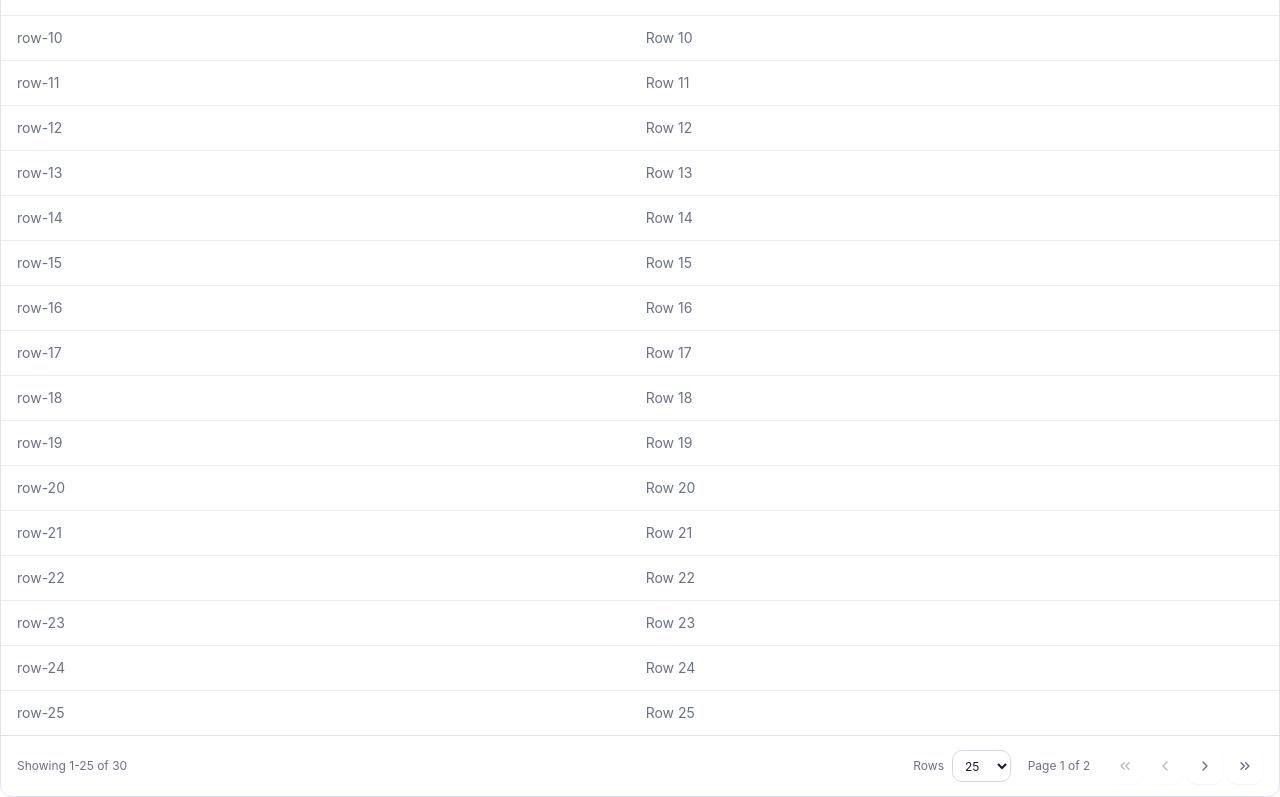
Test: DataTable › paginates rows instead of rendering the full data set
(page scrolled)
Expected: the text "Row 26" is not shown
Expected: the text "Showing 1-25 of 30" is shown, [17,758,127,774]
Click the button named "Next page" at x=1205, y=766, box [1187,748,1223,784]
(page scrolled)
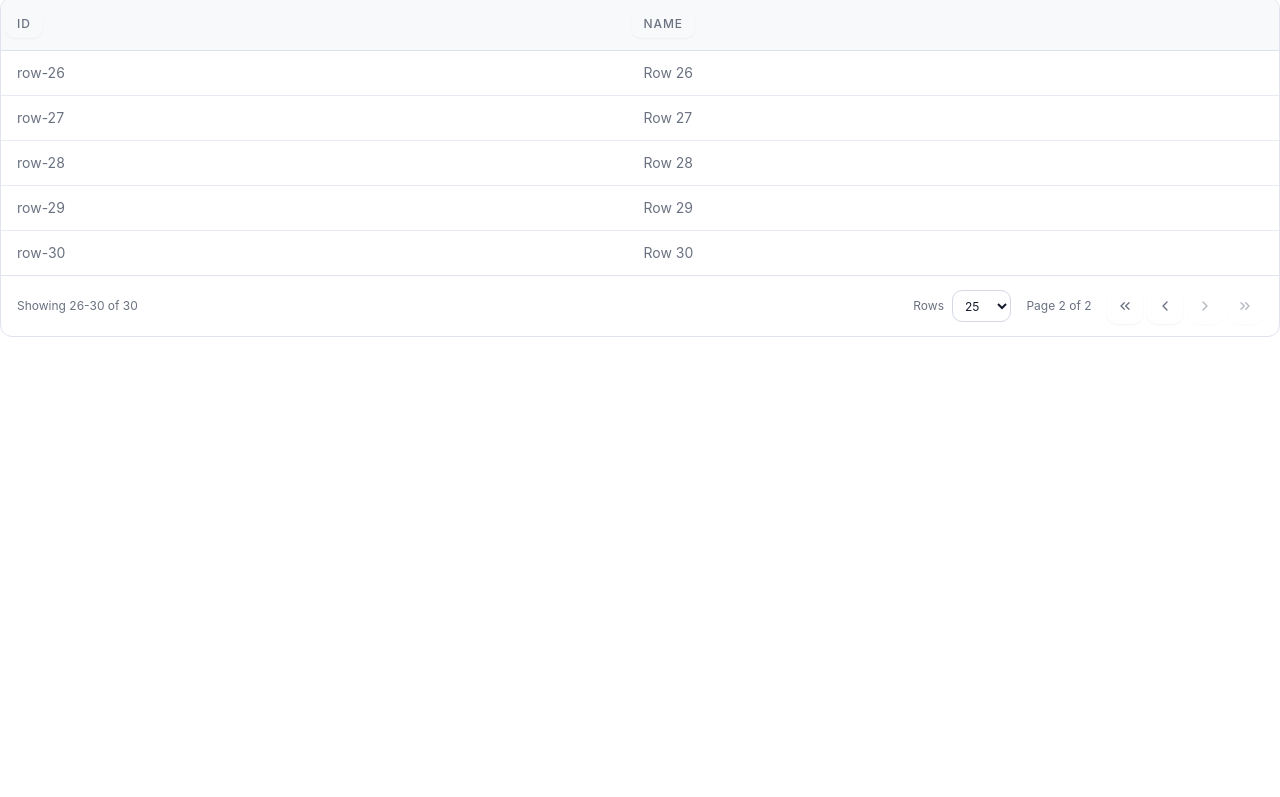
Now the text "Row 1" is gone
Now the text "Row 26" is shown, box [628,50,1279,96]
Now the text "Showing 26-30 of 30" is shown, box [17,298,138,314]
